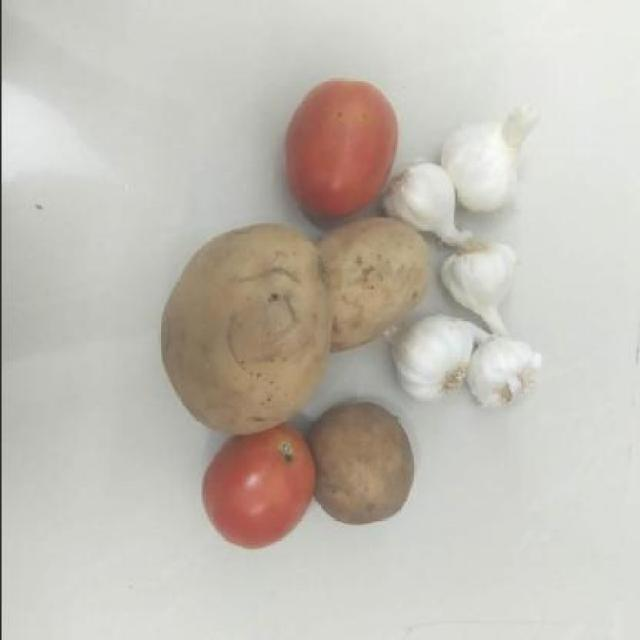Garlic: (438, 81, 517, 217), (442, 236, 512, 322), (392, 322, 470, 398), (464, 335, 542, 408), (386, 158, 459, 234)
Potato: (152, 222, 325, 440), (312, 217, 437, 348), (309, 397, 417, 543)
Tomato: (285, 60, 403, 229), (198, 440, 316, 551)
